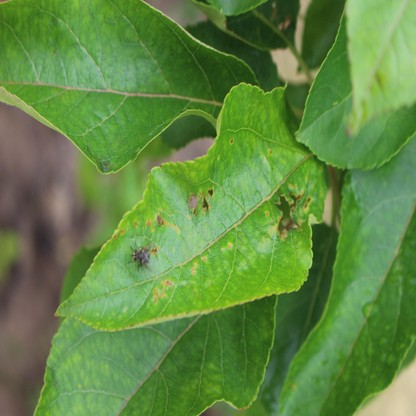rust: (276, 183, 311, 237), (189, 188, 214, 213), (152, 281, 172, 304), (156, 212, 179, 231), (192, 257, 205, 272), (145, 219, 152, 226), (264, 208, 269, 215), (150, 248, 157, 253), (230, 136, 234, 144), (120, 229, 124, 235), (134, 221, 138, 226), (228, 241, 231, 247), (114, 234, 117, 240)
